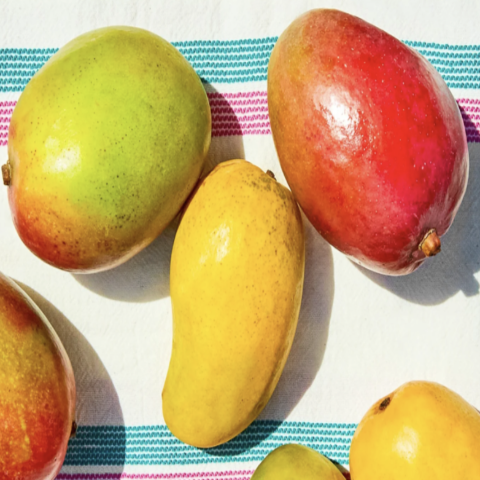mango: (251, 0, 480, 322), (0, 7, 221, 323), (151, 134, 319, 469)
